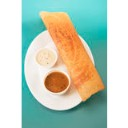dosa: (38, 8, 108, 103)
